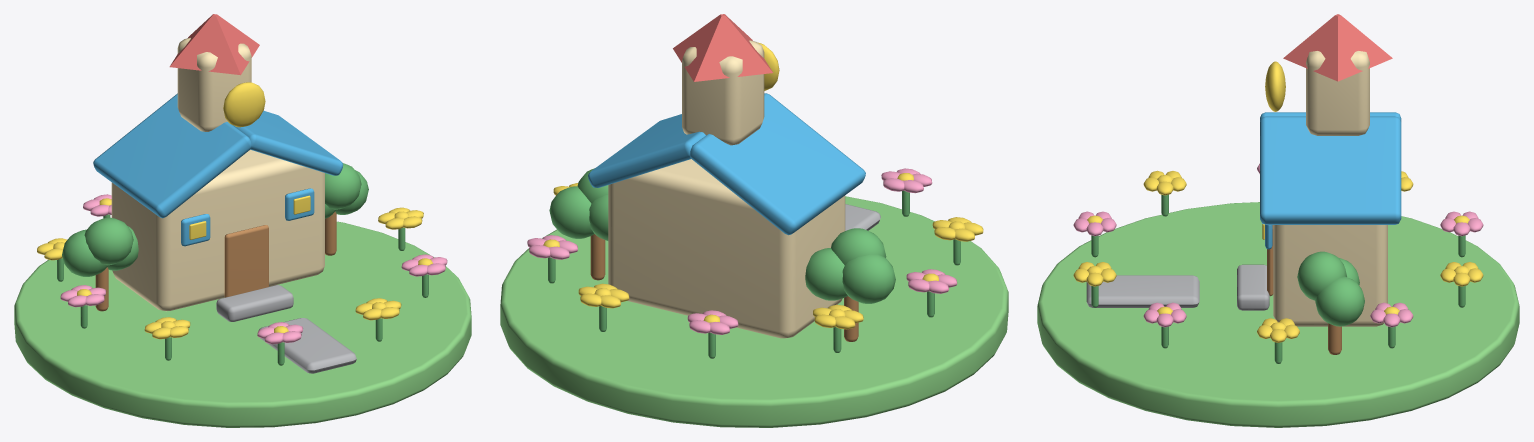
The model's file is region_school.glb.
3 views of the same model, side by side, from view 1: azimuth 30°, elevation 25°; view 2: azimuth 150°, elevation 25°; view 3: azimuth 270°, elevation 25° (orthographic). The views are drawn at different scales.
Visible parts, largest first — view 1: round grassy plot, rounded plaster walls, overlapping roof tiles, classroom tower, overlapping roof tiles.001, Cone, arched entry, school path, stone threshold, rounded foliage.003, school bell, rounded foliage.001 (+5 smaller); view 2: round grassy plot, rounded plaster walls, overlapping roof tiles, classroom tower, overlapping roof tiles.001, Cone, rounded foliage.001, rounded foliage.005, rounded foliage.002, rounded foliage.003, rounded foliage.004, school path (+2 smaller); view 3: round grassy plot, overlapping roof tiles.001, rounded plaster walls, classroom tower, Cone, school path, rounded foliage.005, rounded foliage, stone threshold, school bell.
Boxes of the visible parts, x1=… form: round grassy plot: x1=14, y1=221, x2=471, y2=427; rounded plaster walls: x1=111, y1=149, x2=324, y2=311; overlapping roof tiles: x1=93, y1=93, x2=251, y2=218; classroom tower: x1=177, y1=37, x2=251, y2=131; overlapping roof tiles.001: x1=232, y1=110, x2=343, y2=175; Cone: x1=169, y1=14, x2=259, y2=75; arched entry: x1=224, y1=225, x2=268, y2=297; school path: x1=258, y1=318, x2=356, y2=373; stone threshold: x1=216, y1=285, x2=293, y2=321; rounded foliage.003: x1=84, y1=217, x2=133, y2=265; school bell: x1=223, y1=82, x2=265, y2=127; rounded foliage.001: x1=62, y1=229, x2=108, y2=276; round grassy plot: x1=500, y1=196, x2=1008, y2=427; rounded plaster walls: x1=608, y1=159, x2=845, y2=338; overlapping roof tiles: x1=690, y1=93, x2=865, y2=235; classroom tower: x1=682, y1=40, x2=764, y2=145; overlapping roof tiles.001: x1=588, y1=114, x2=705, y2=187; Cone: x1=673, y1=14, x2=772, y2=81; rounded foliage.001: x1=842, y1=254, x2=895, y2=303; rounded foliage.005: x1=549, y1=186, x2=594, y2=238; rounded foliage.002: x1=805, y1=248, x2=847, y2=300; rounded foliage.003: x1=831, y1=228, x2=886, y2=265; rounded foliage.004: x1=589, y1=195, x2=608, y2=240; school path: x1=845, y1=204, x2=880, y2=230; round grassy plot: x1=1037, y1=202, x2=1519, y2=427; overlapping roof tiles.001: x1=1260, y1=116, x2=1401, y2=224; rounded plaster walls: x1=1273, y1=225, x2=1387, y2=326; classroom tower: x1=1306, y1=51, x2=1369, y2=135; Cone: x1=1283, y1=14, x2=1392, y2=81; school path: x1=1086, y1=275, x2=1199, y2=307; rounded foliage.005: x1=1315, y1=276, x2=1364, y2=326; rounded foliage: x1=1297, y1=251, x2=1346, y2=300; stone threshold: x1=1237, y1=264, x2=1269, y2=310; school bell: x1=1265, y1=61, x2=1285, y2=111.
Bounding box in the file's own units: 3.24 × 2.32 × 3.24.
